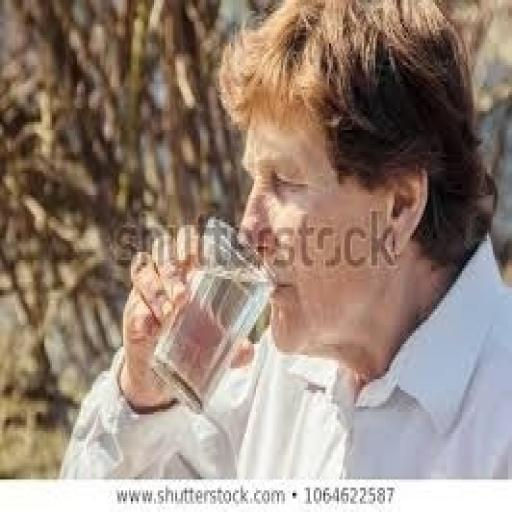drinking: (133, 214, 275, 412)
